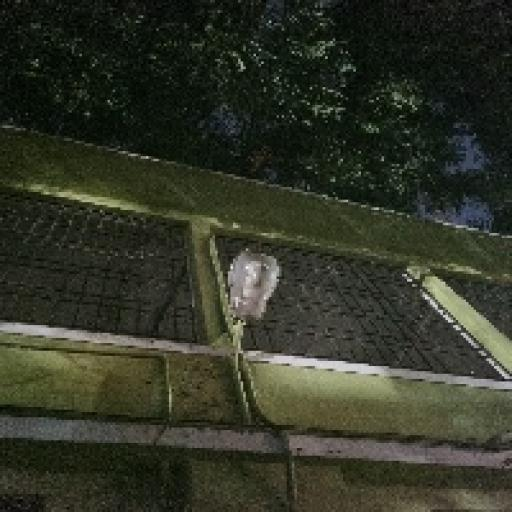Not Working: (209, 240, 288, 327)
